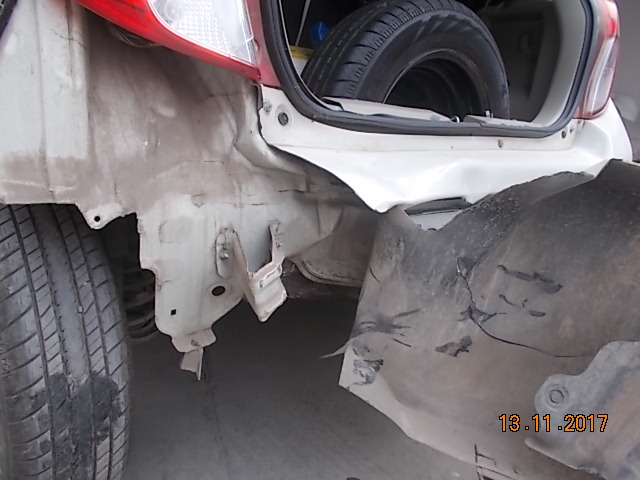Large_tear_or_damage: (42, 36, 409, 392)
